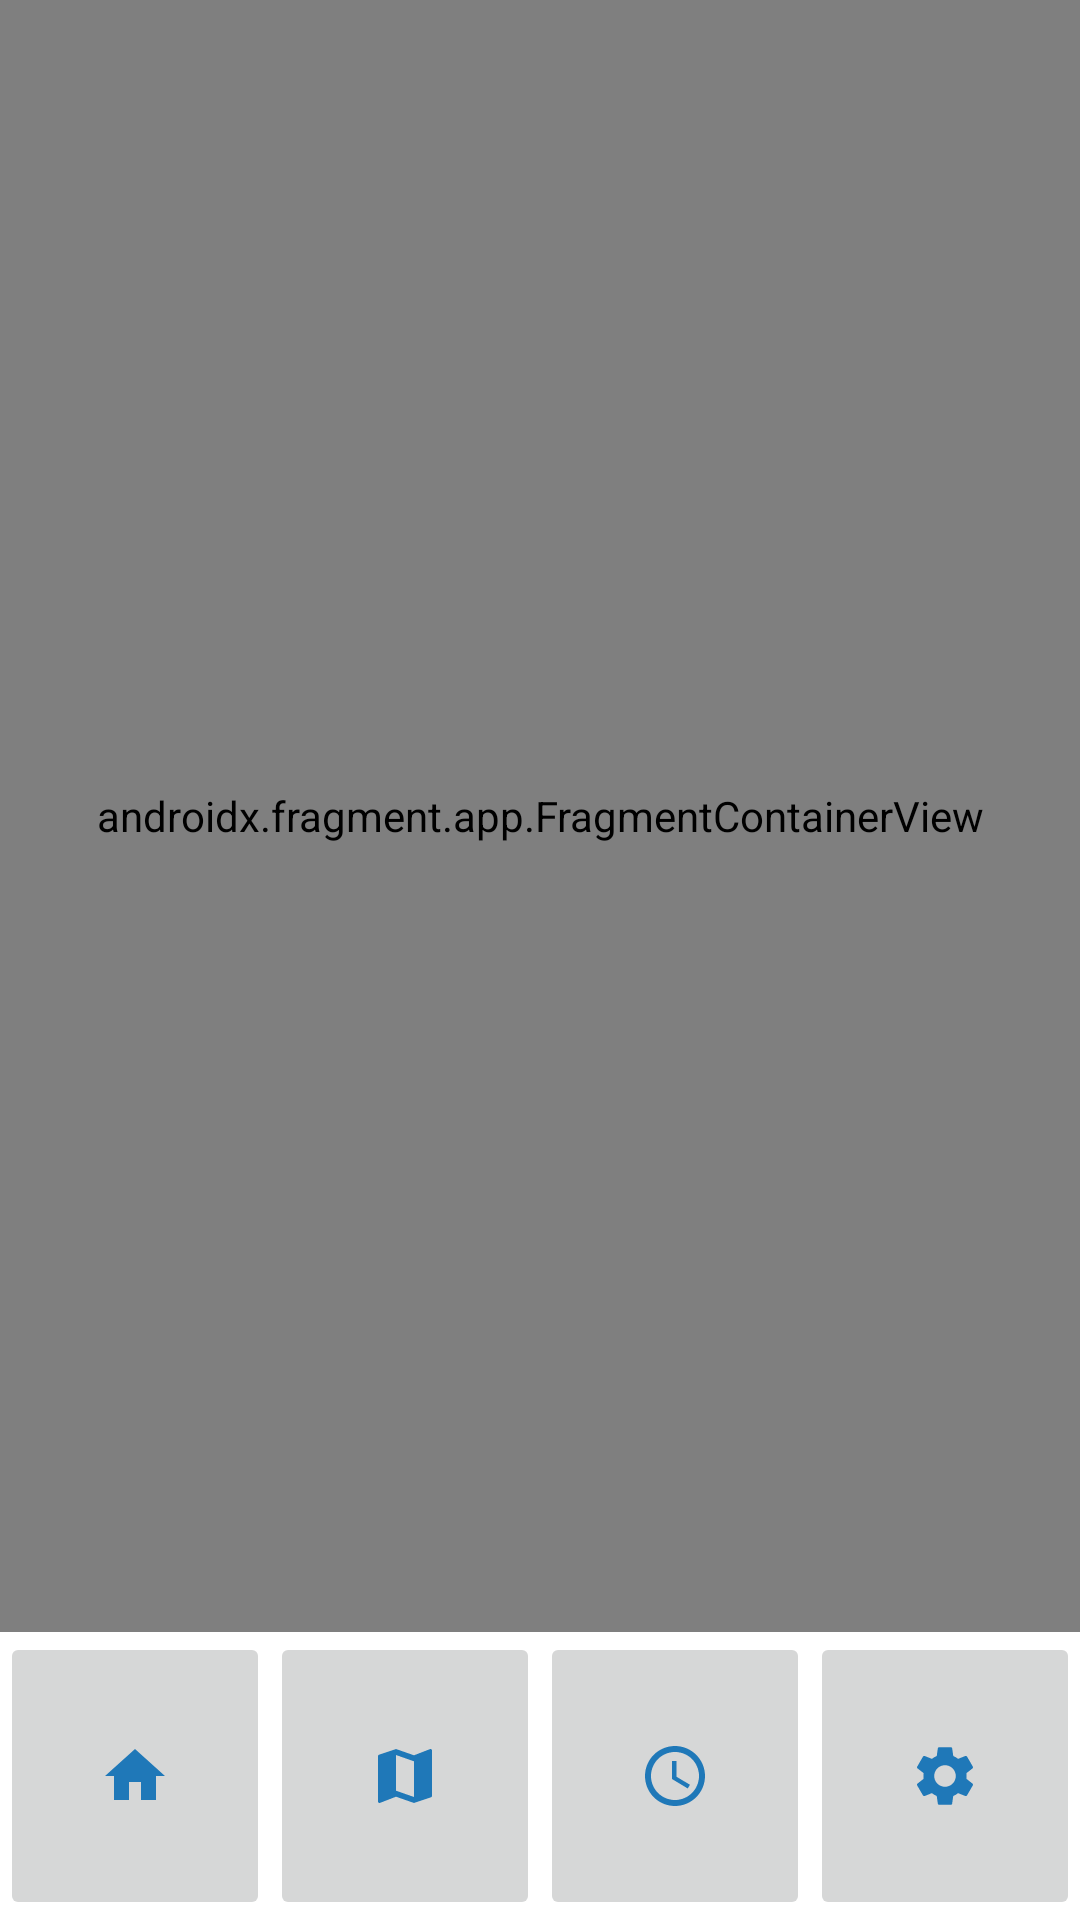

Icons on this 1080 × 1920 Android screen, each with its box as (x1,y1,x2,y2):
home: (12,1650,258,1902)
map: (282,1650,528,1902)
schedule: (552,1650,798,1902)
settings: (822,1650,1068,1902)
